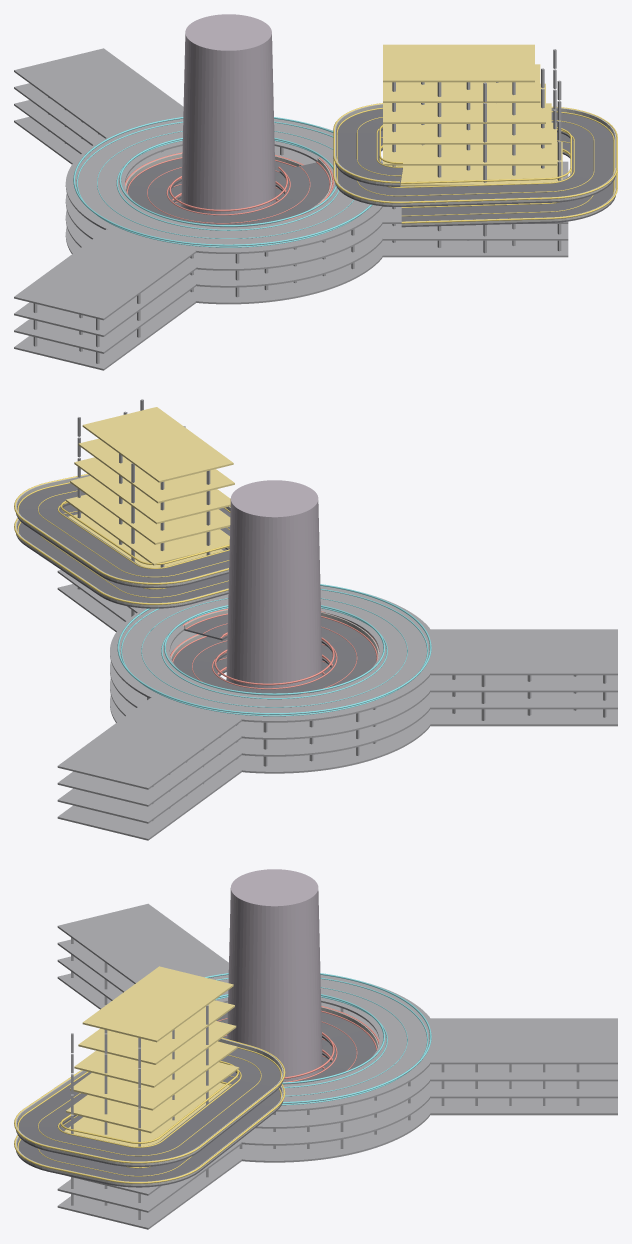
File: td02_ytower_greybox.glb
The picture shows the model from 3 angles, top to bottom: view 1: azimuth 30°, elevation 25°; view 2: azimuth 150°, elevation 25°; view 3: azimuth 270°, elevation 25°; orthographic projection.
Visible parts, largest first — view 1: TD02_podium_L3, TD02_core_tower, TD02_balcony_deck, TD02_podium_L1, TD02_podium_L0, TD02_podium_L2, TD02_wing_yellow_D6, TD02_helix_deck, TD02_wing_yellow_D2, TD02_columns, TD02_wing_yellow_D3, TD02_wing_yellow_D4 (+12 smaller); view 2: TD02_podium_L3, TD02_core_tower, TD02_podium_L0, TD02_podium_L1, TD02_podium_L2, TD02_balcony_deck, TD02_helix_deck, TD02_wing_yellow_D6, TD02_wing_yellow_D2, TD02_wing_yellow_D3, TD02_wing_yellow_D4, TD02_wing_yellow_D5 (+10 smaller); view 3: TD02_podium_L3, TD02_core_tower, TD02_balcony_deck, TD02_podium_L0, TD02_podium_L1, TD02_podium_L2, TD02_wing_yellow_D6, TD02_wing_yellow_D2, TD02_wing_yellow_D3, TD02_wing_yellow_D4, TD02_wing_yellow_D5, TD02_route_parapets (+9 smaller).
Part boxes in pixels (x1,y1,x2,y2): TD02_podium_L3: (14,48,568,320); TD02_core_tower: (181,14,275,214); TD02_balcony_deck: (335,109,615,227); TD02_podium_L1: (14,100,568,353); TD02_podium_L0: (14,117,568,370); TD02_podium_L2: (14,83,568,336); TD02_wing_yellow_D6: (383,44,534,82); TD02_helix_deck: (126,158,330,227); TD02_wing_yellow_D2: (383,122,556,165); TD02_columns: (33,49,561,363); TD02_wing_yellow_D3: (383,103,551,144); TD02_wing_yellow_D4: (383,83,545,123); TD02_podium_L3: (57,586,617,789); TD02_core_tower: (226,480,322,688); TD02_podium_L0: (57,584,617,840); TD02_podium_L1: (57,570,617,823); TD02_podium_L2: (57,606,617,806); TD02_balcony_deck: (16,483,230,608); TD02_helix_deck: (172,614,377,695); TD02_wing_yellow_D6: (82,407,233,482); TD02_wing_yellow_D2: (66,494,229,565); TD02_wing_yellow_D3: (70,476,230,544); TD02_wing_yellow_D4: (74,457,230,524); TD02_wing_yellow_D5: (78,438,234,503); TD02_podium_L3: (57,903,617,1111); TD02_core_tower: (227,869,322,1081); TD02_balcony_deck: (16,1048,283,1187); TD02_podium_L0: (57,973,617,1229); TD02_podium_L1: (57,956,617,1212); TD02_podium_L2: (57,939,617,1195); TD02_wing_yellow_D6: (82,966,233,1042); TD02_wing_yellow_D2: (66,1062,239,1133); TD02_wing_yellow_D3: (70,1041,237,1110); TD02_wing_yellow_D4: (74,1021,236,1087); TD02_wing_yellow_D5: (78,1000,234,1064); TD02_route_parapets: (15,1007,378,1185).
Size of the model in its own units: 184 by 60.5 by 161.
